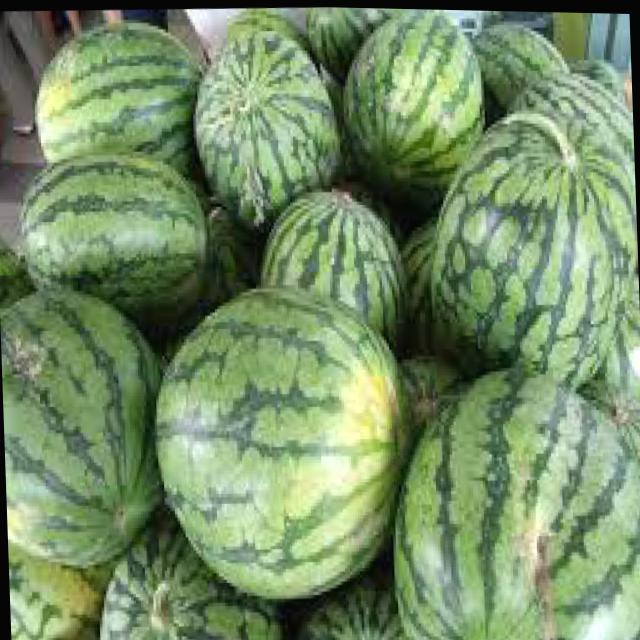watermelon: (152, 284, 414, 600), (387, 362, 640, 640), (426, 118, 636, 386), (0, 286, 161, 565), (190, 12, 340, 219), (18, 149, 206, 308), (339, 6, 484, 185), (32, 15, 195, 171), (260, 186, 401, 345), (97, 548, 263, 640), (472, 16, 568, 110)
